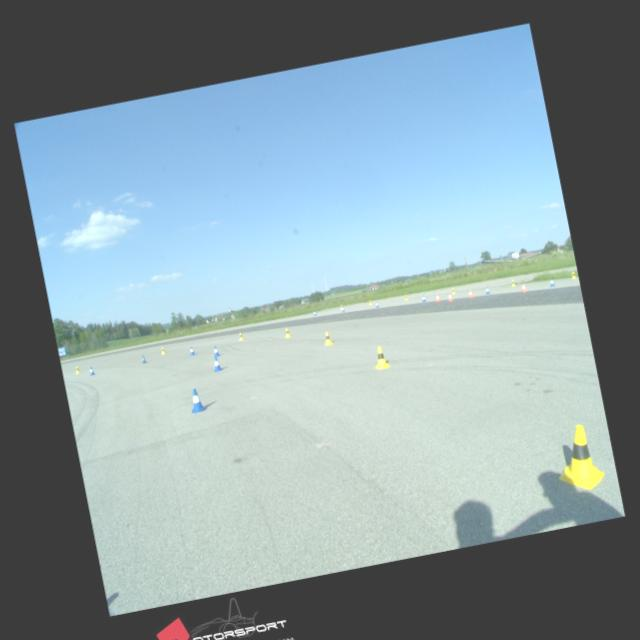blue_cone: (188, 388, 205, 412), (211, 355, 223, 371), (212, 345, 222, 357), (188, 346, 196, 355), (548, 278, 556, 287), (88, 366, 95, 376), (140, 354, 147, 364), (486, 286, 490, 294), (422, 294, 426, 302), (375, 302, 379, 308), (341, 306, 345, 312), (313, 310, 317, 316)
orange_cone: (520, 283, 528, 293), (446, 292, 454, 302), (468, 289, 473, 298), (436, 294, 440, 302)
yellow_cone: (550, 422, 606, 494), (371, 346, 390, 370), (323, 331, 333, 346), (284, 327, 292, 338), (75, 365, 81, 374), (238, 332, 244, 341), (160, 346, 166, 354), (510, 279, 516, 286), (571, 271, 576, 279), (452, 288, 456, 294), (404, 294, 408, 300), (368, 300, 372, 306), (341, 304, 344, 309)
